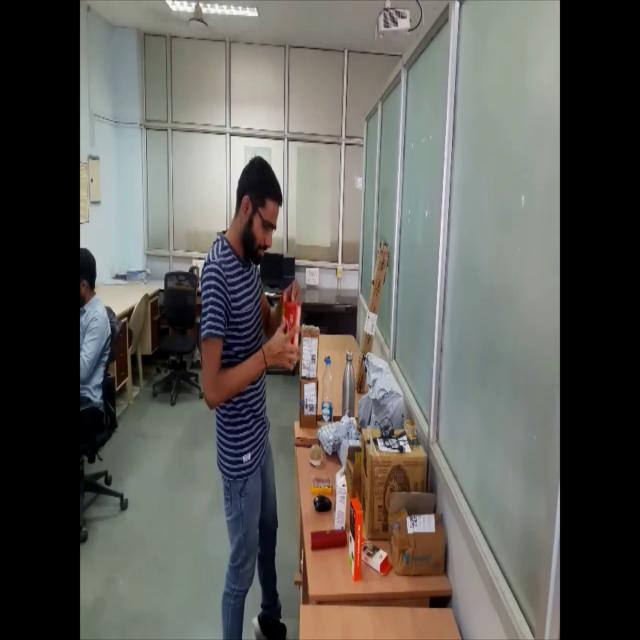normal: (193, 156, 307, 640)
